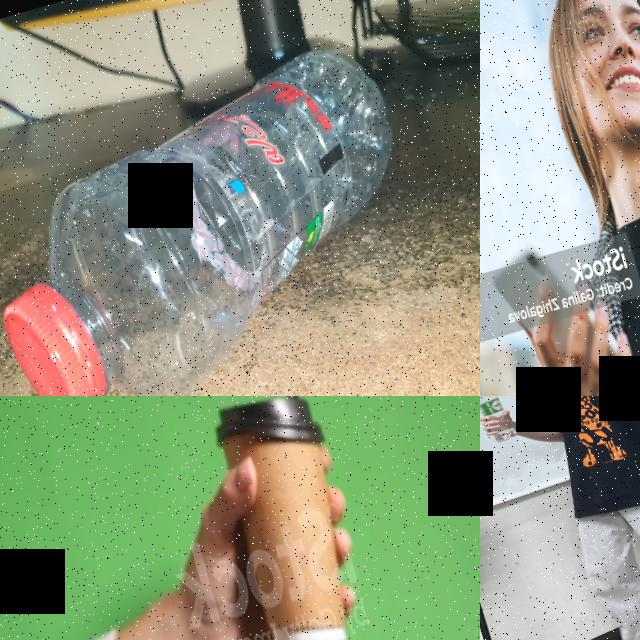bottle: (0, 24, 458, 396), (480, 396, 521, 446)
cup: (200, 396, 380, 640)
